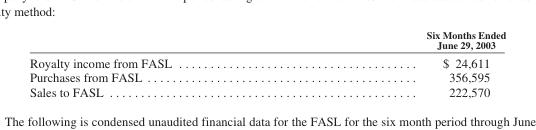table: (28, 28, 505, 98)
table column: (28, 28, 298, 98), (298, 28, 505, 98)
table column header: (28, 28, 505, 53)
table row: (28, 28, 505, 53), (28, 53, 505, 69), (28, 69, 505, 84), (28, 84, 505, 98)
